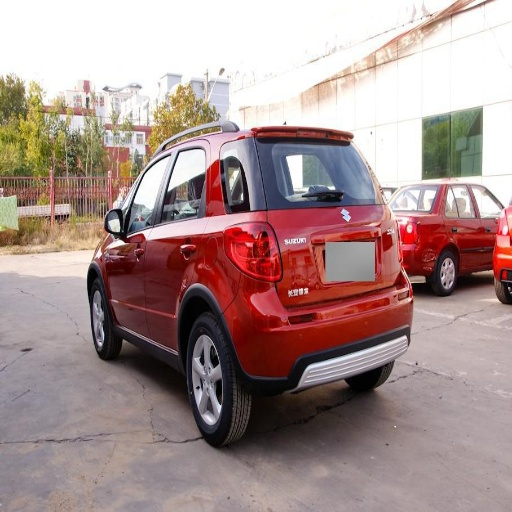back_bumper: (228, 267, 413, 390)
back_glass: (247, 140, 376, 204)
back_left_door: (149, 138, 223, 345)
trunk: (238, 208, 398, 319)
